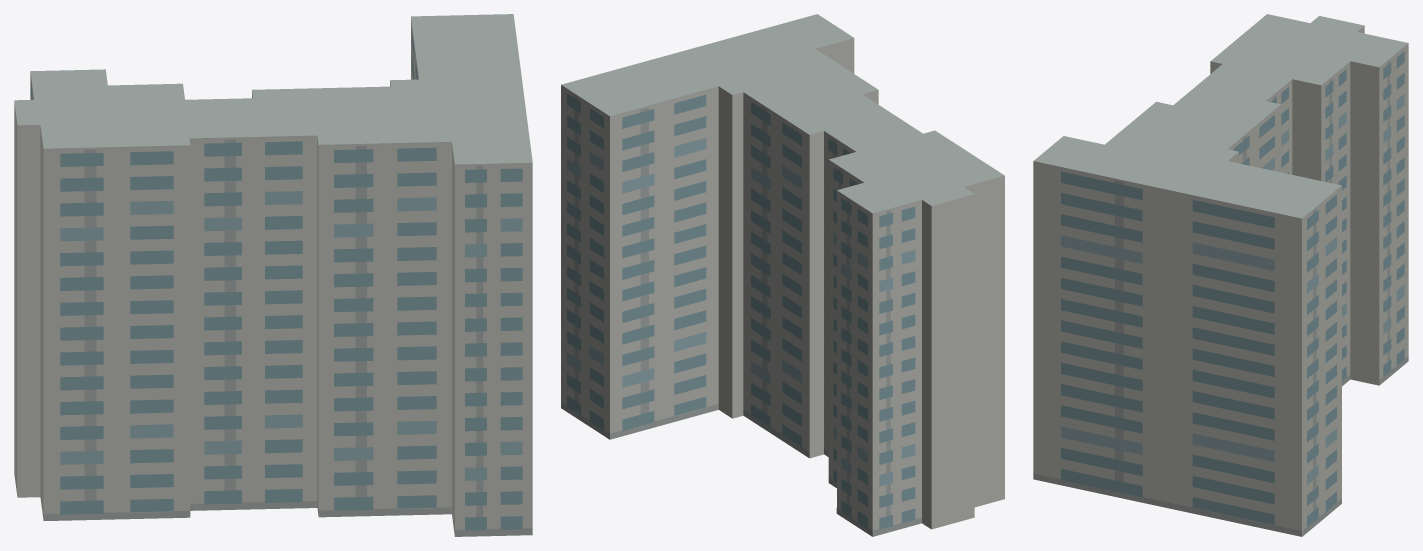
Rendered from residential-96229d5d-171d-4732-aac4-77a2f502eb6a.glb.
The picture shows the model from 3 angles, left to right: view 1: azimuth 30°, elevation 25°; view 2: azimuth 150°, elevation 25°; view 3: azimuth 270°, elevation 25°; orthographic projection. The views are drawn at different scales.
Parts seen in each view (by area): view 1: residential-96229d5d-171d-4732-aac4-77a2f502eb6a.tmp; view 2: residential-96229d5d-171d-4732-aac4-77a2f502eb6a.tmp; view 3: residential-96229d5d-171d-4732-aac4-77a2f502eb6a.tmp.
Boxes of the visible parts, x1,y1,x2,y2 form: residential-96229d5d-171d-4732-aac4-77a2f502eb6a.tmp: (14, 14, 532, 536); residential-96229d5d-171d-4732-aac4-77a2f502eb6a.tmp: (561, 14, 1004, 536); residential-96229d5d-171d-4732-aac4-77a2f502eb6a.tmp: (1033, 14, 1408, 536).
Size of the model in its own units: 59.28 by 43 by 45.93.
